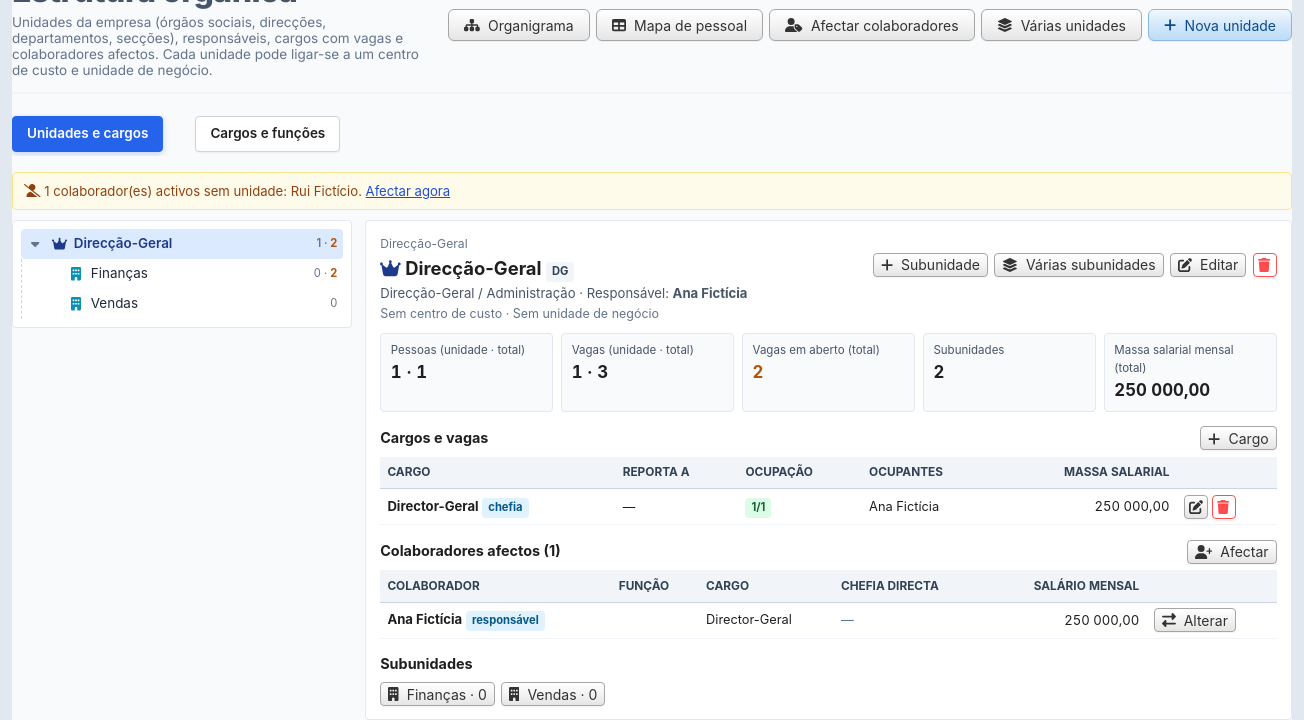
Estrutura orgânica — ecrã do antigo › árvore à esquerda, detalhe à direita, colaboradores afectos e botões do antigo
(page scrolled)
expect the button "Organigrama" is shown: met, box [448,9,590,41]
expect the button "Mapa de pessoal" is shown: met, box [596,9,763,41]
// Subunidades → selecciona Finanças
Click the button "Finanças · 0".
click(438, 694)  # box [380,682,495,706]
(page scrolled)
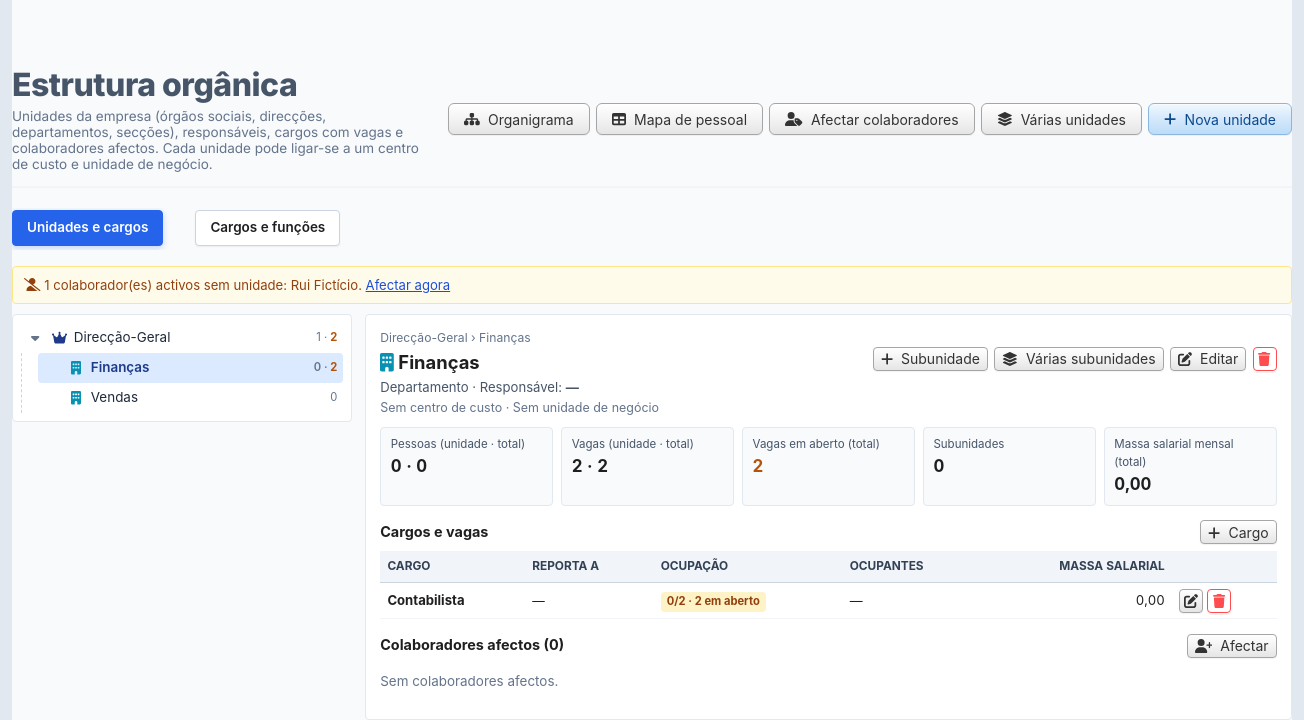
expect the text "Colaboradores afectos (0)" is shown: met, box [380,634,564,657]
